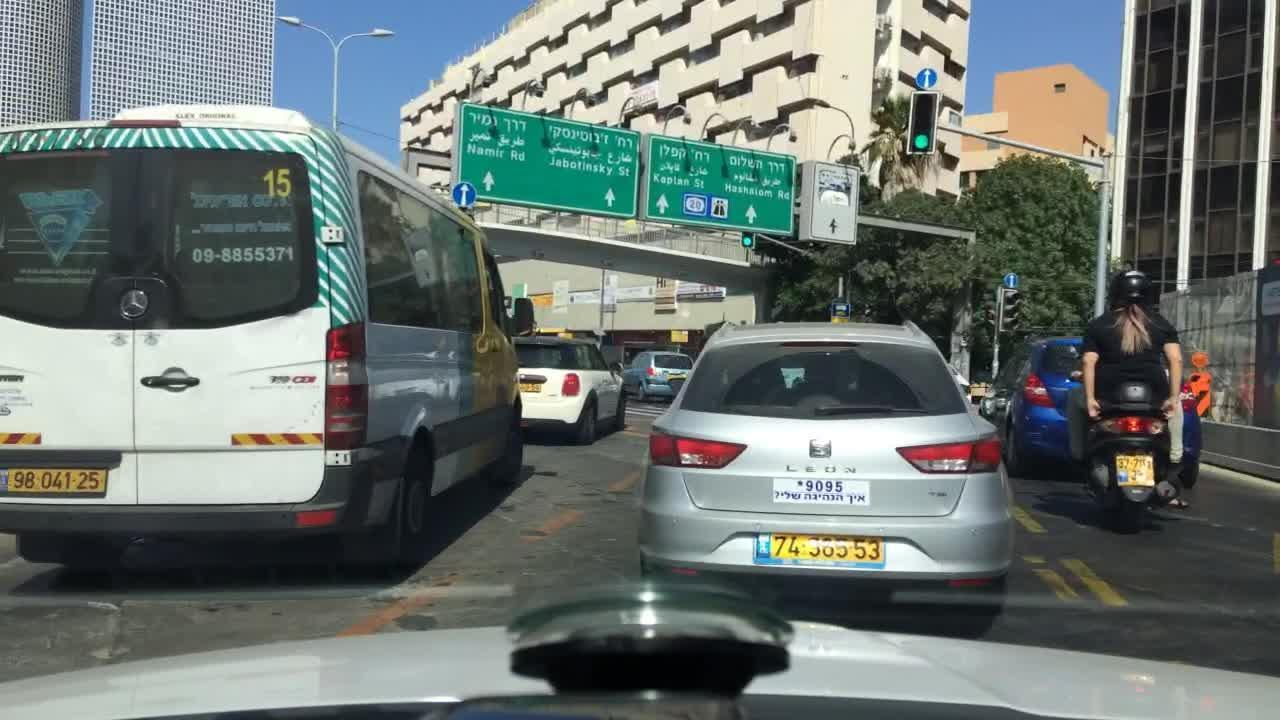Mercedes: (116, 287, 150, 321)
